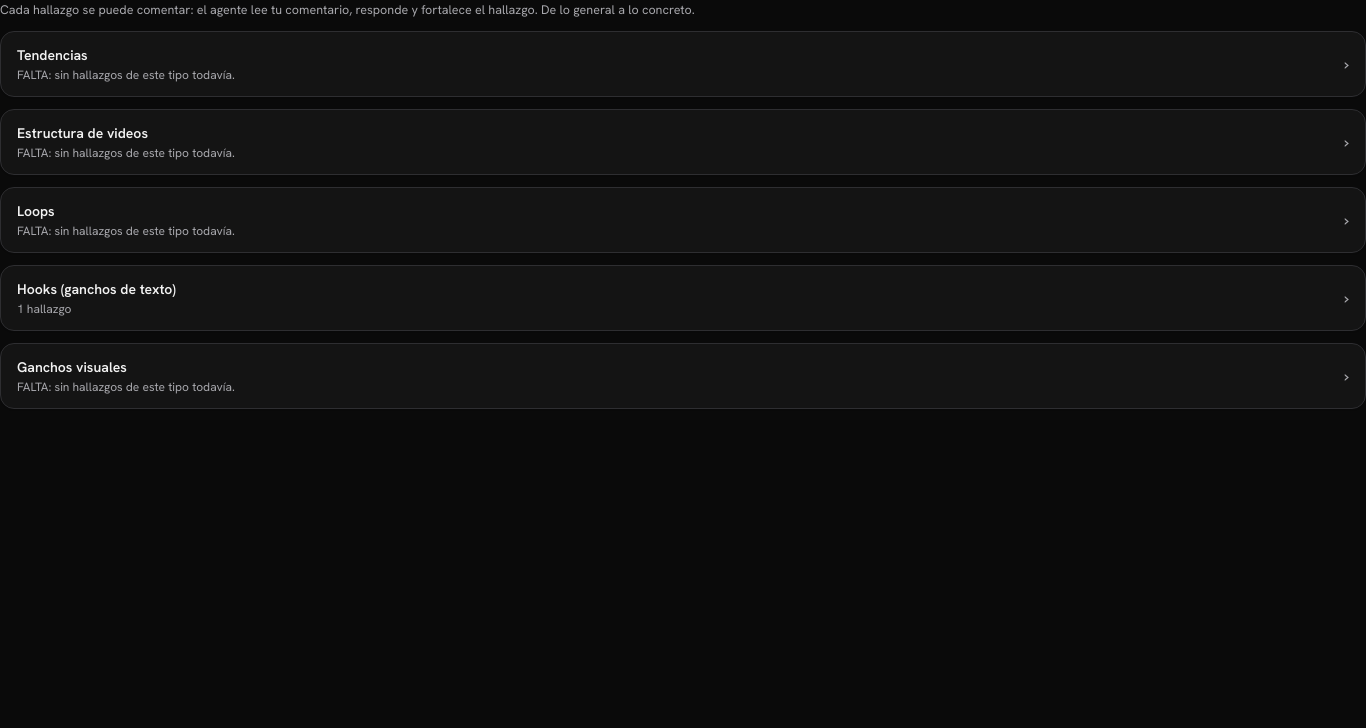
Scenario: InvestigacionInteractiva › si la base rechaza, se dice y lo escrito se conserva
Click the button "Hooks (ganchos de texto) 1 hallazgo ›" at (96, 289), box [1,266,1365,330]
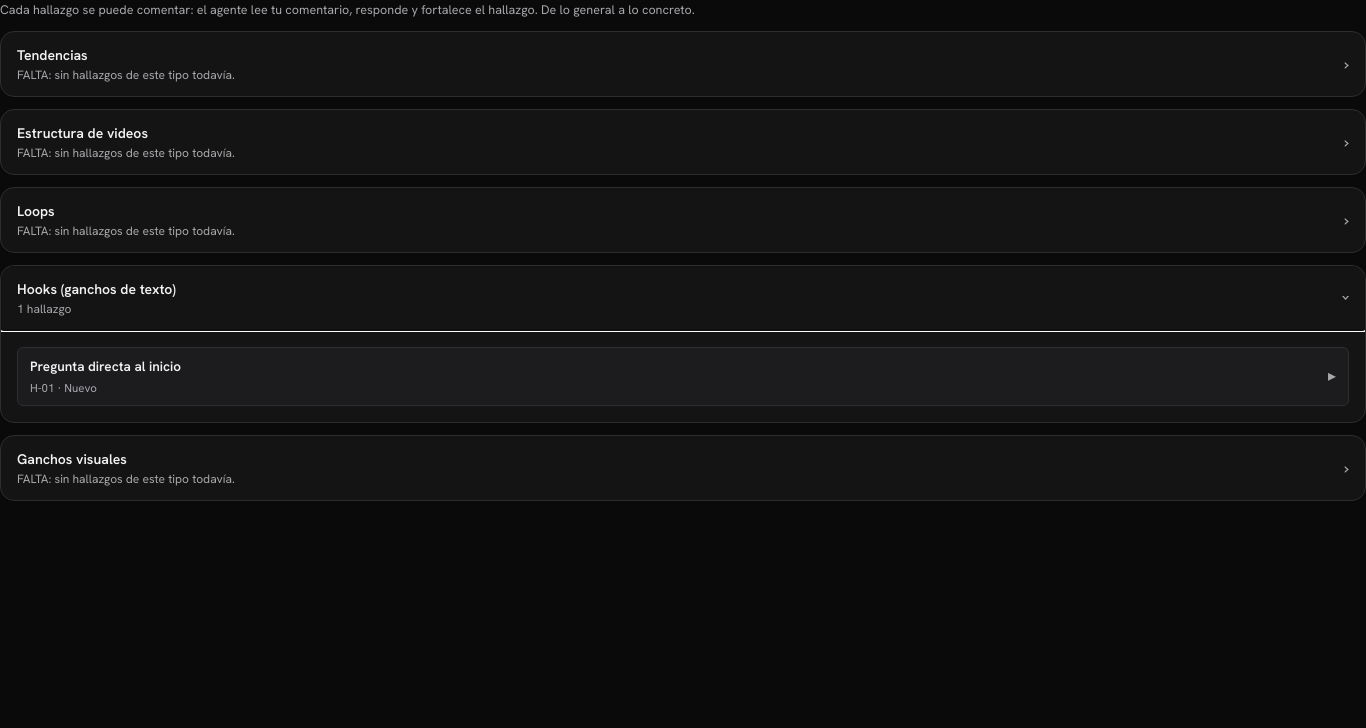
Click the button "Pregunta directa al inicio H-01 · Nuevo ▸" at (105, 366), box [18,348,1348,405]
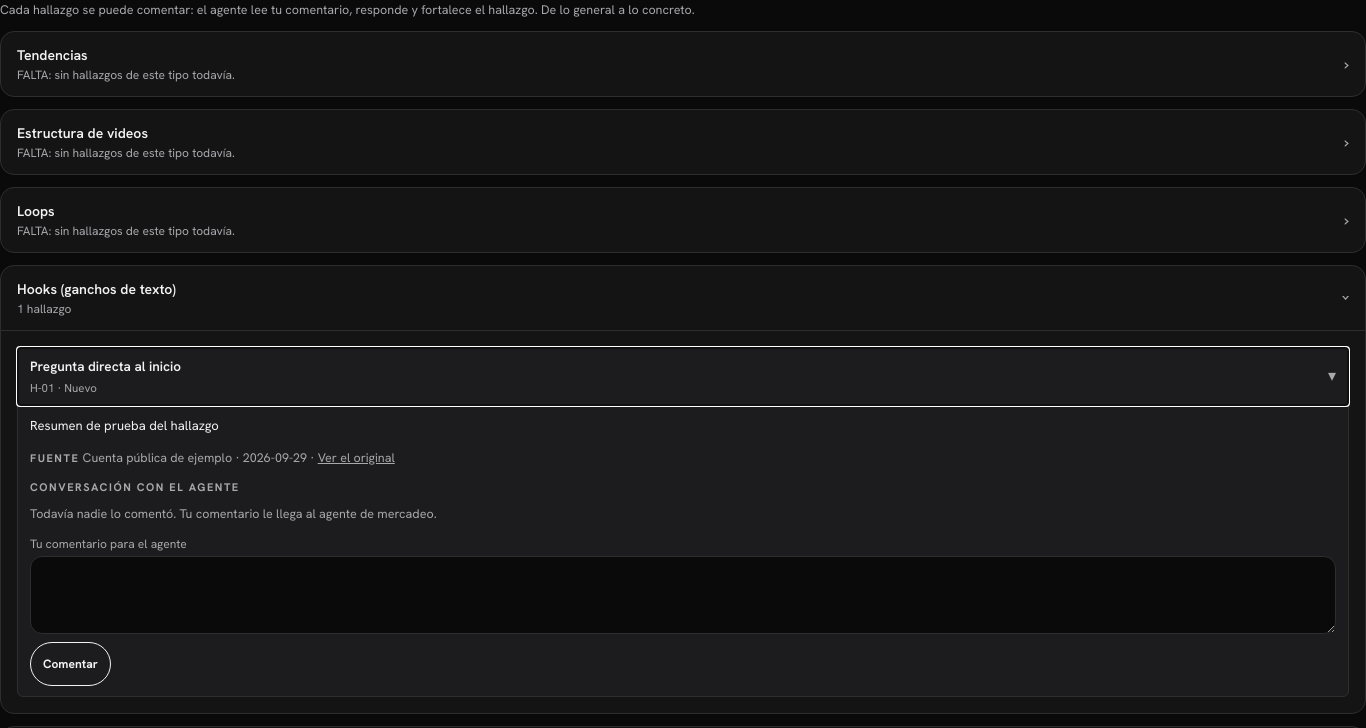
Type "Mi idea" into the text box labelled "Tu comentario para el agente" at (683, 595), box [30,556,1336,634]
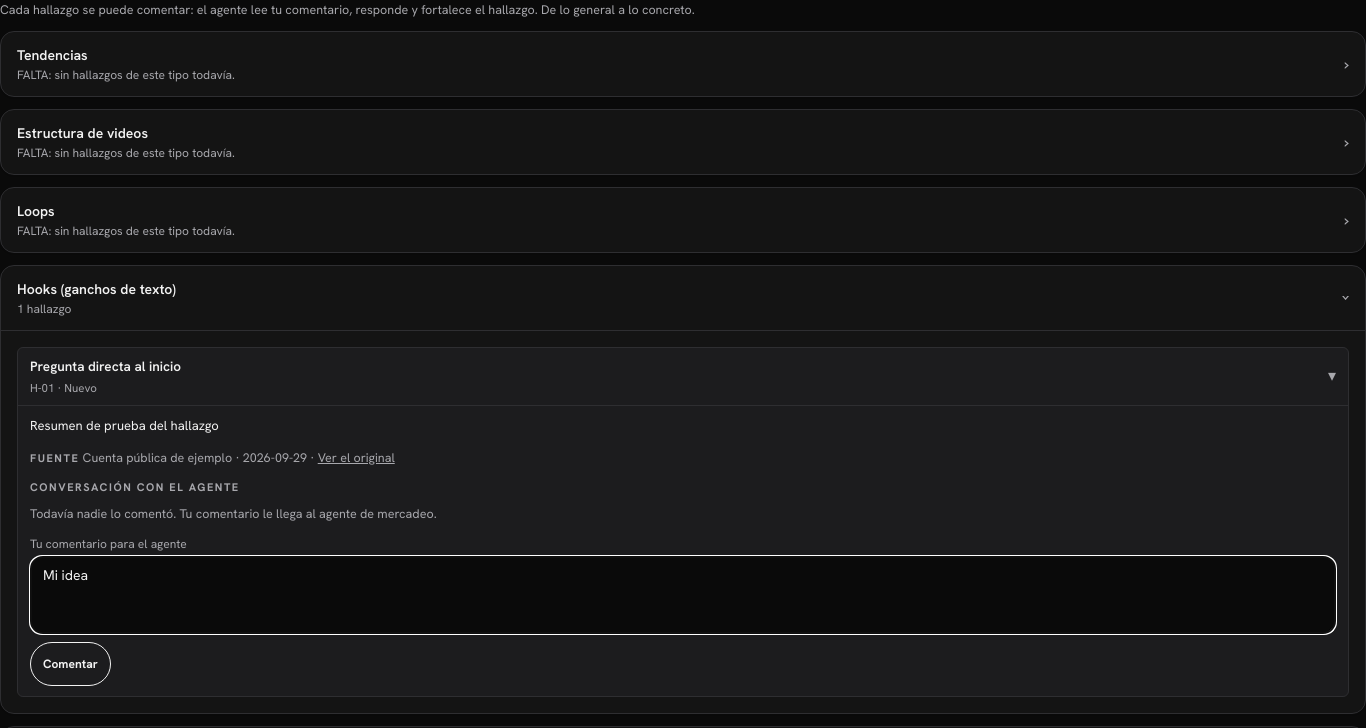
Click the button "Comentar" at (70, 664), box [30,642,111,686]
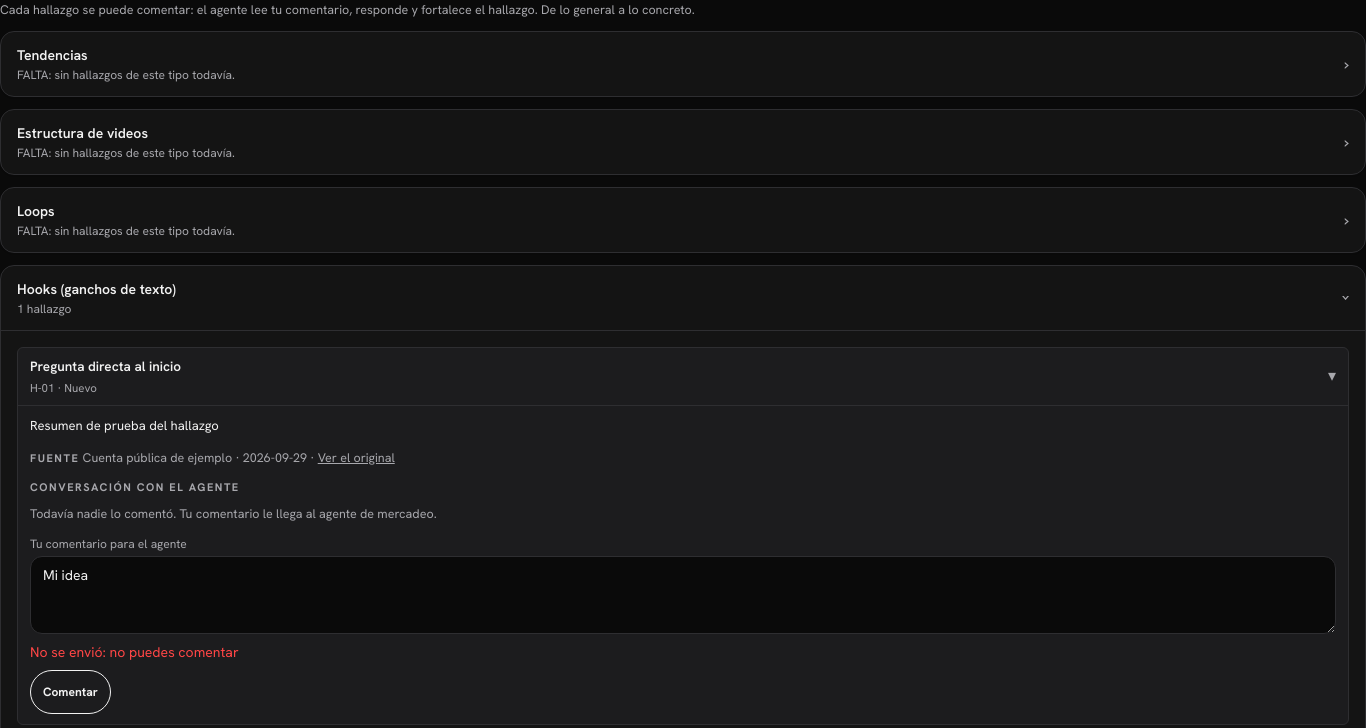
Now the message shows "no puedes comentar", box [110,643,239,661]
